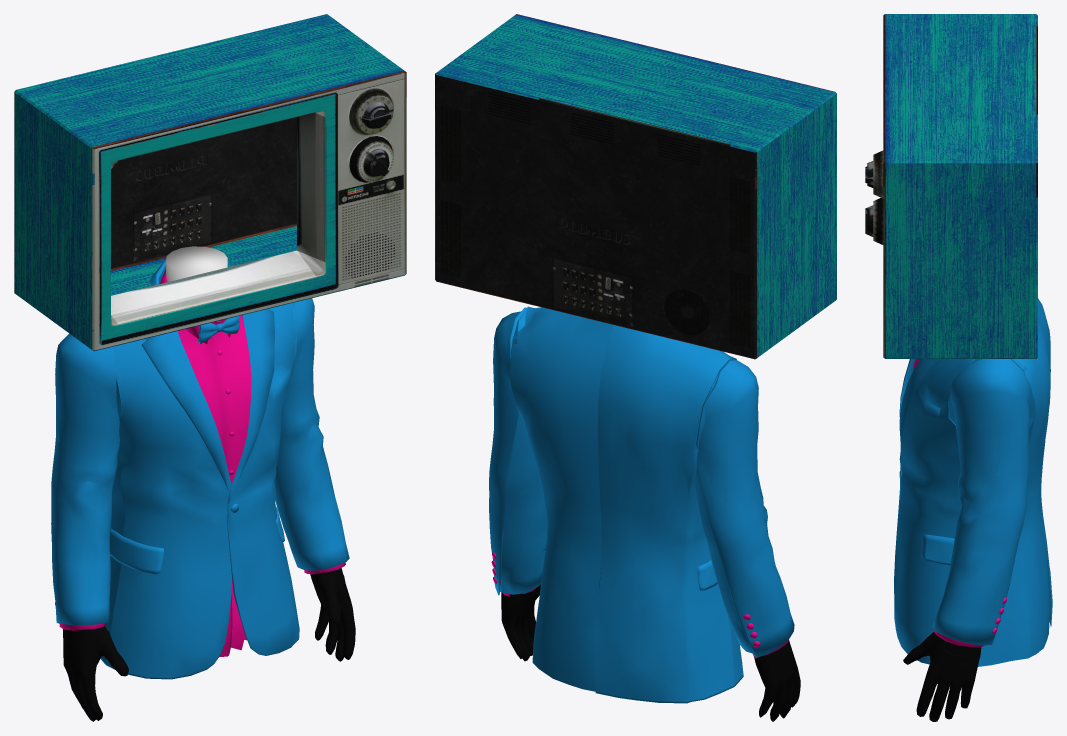
Rendered from SuitADNtv.fbx.
3 views of the same model, side by side, from view 1: azimuth 30°, elevation 25°; view 2: azimuth 150°, elevation 25°; view 3: azimuth 270°, elevation 25° (orthographic). The views are drawn at different scales.
Visible parts, largest first — view 1: polySurface1_TV_0, 4_Object08_0.1_16_16.001, 4_Object06_0.1_16_16.002, 4_Object06_0.1_16_16.001, Cylinder; view 2: polySurface1_TV_0, 4_Object08_0.1_16_16.001, 4_Object06_0.1_16_16.002; view 3: polySurface1_TV_0, 4_Object08_0.1_16_16.001, 4_Object06_0.1_16_16.002.
Boxes of the visible parts, left/top/right/bottom form: polySurface1_TV_0: left=14, top=14, right=406, bottom=351; 4_Object08_0.1_16_16.001: left=100, top=260, right=299, bottom=679; 4_Object06_0.1_16_16.002: left=51, top=298, right=355, bottom=721; 4_Object06_0.1_16_16.001: left=115, top=269, right=296, bottom=657; Cylinder: left=166, top=246, right=227, bottom=281; polySurface1_TV_0: left=435, top=14, right=836, bottom=359; 4_Object08_0.1_16_16.001: left=510, top=306, right=743, bottom=703; 4_Object06_0.1_16_16.002: left=489, top=311, right=800, bottom=721; polySurface1_TV_0: left=865, top=14, right=1037, bottom=358; 4_Object08_0.1_16_16.001: left=894, top=298, right=1052, bottom=666; 4_Object06_0.1_16_16.002: left=903, top=359, right=1029, bottom=721.
Size of the model in its own units: 69.98 by 127 by 37.34.
